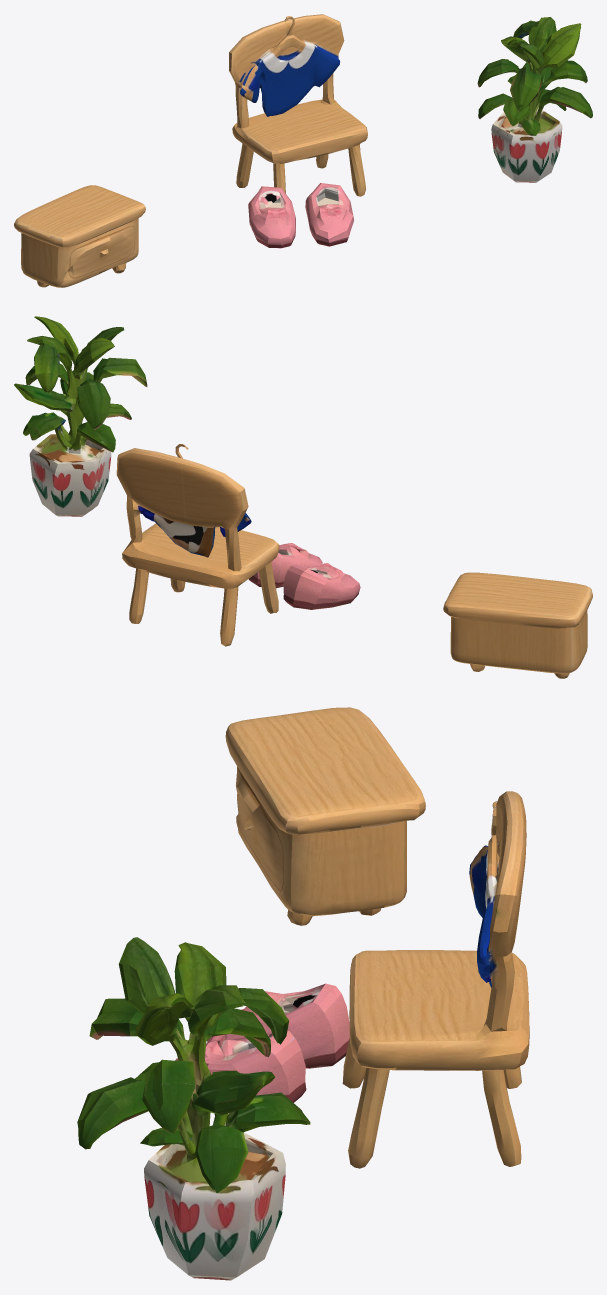
3 views of the same model, one above another, from view 1: azimuth 30°, elevation 25°; view 2: azimuth 150°, elevation 25°; view 3: azimuth 270°, elevation 25° (orthographic). The views are drawn at different scales.
Parts seen in each view (by area): view 1: Mesh0; view 2: Mesh0; view 3: Mesh0.
Part boxes in pixels (x1,y1,x2,y2): Mesh0: (14, 14, 592, 287); Mesh0: (14, 316, 592, 678); Mesh0: (77, 707, 529, 1280).
Bounding box in the file's own units: 1.9 × 0.581 × 0.7053.
Materials: 1 (1 with a texture image).
